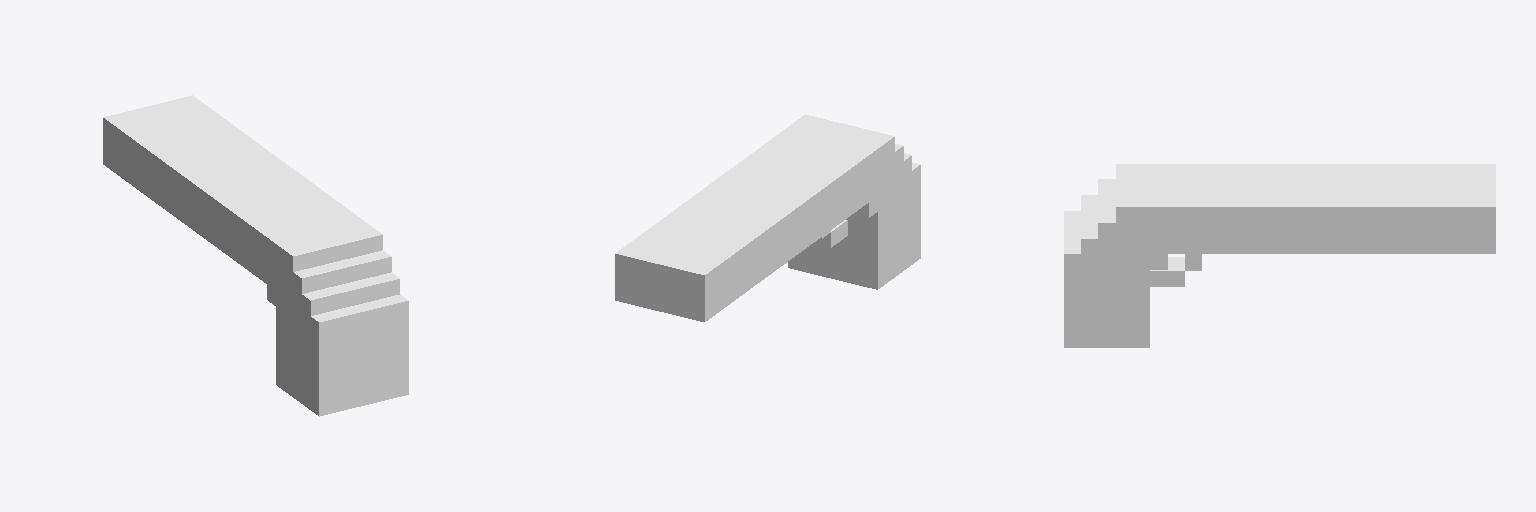
Rendered from Gun3D.obj.
3 renders of one model, left to right at view 1: azimuth 30°, elevation 25°; view 2: azimuth 150°, elevation 25°; view 3: azimuth 270°, elevation 25°, orthographic.
Visible parts, largest first — view 1: object 1; view 2: object 1; view 3: object 1.
Part boxes in pixels (left/top/right/bottom): object 1: left=103, top=95, right=408, bottom=416; object 1: left=615, top=114, right=920, bottom=321; object 1: left=1064, top=164, right=1495, bottom=347.
Size of the model in its own units: 0.6 by 0.9 by 2.5.